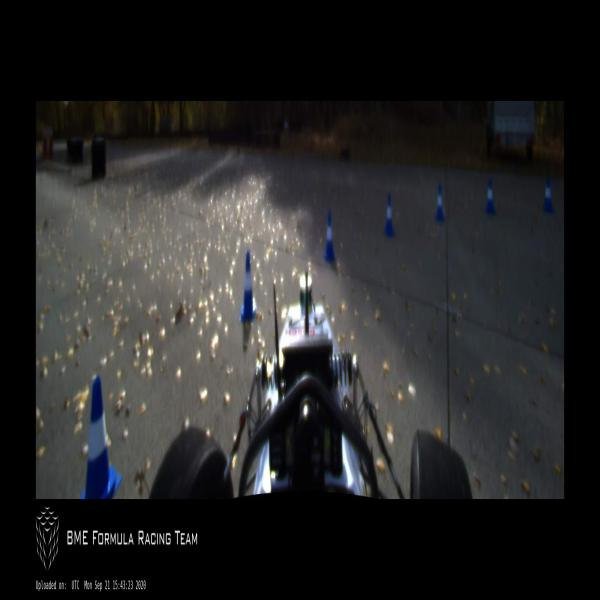blue_cone: (80, 372, 123, 498), (240, 251, 257, 320), (323, 212, 337, 264), (542, 172, 555, 216), (383, 193, 395, 237), (434, 183, 446, 222), (485, 177, 496, 214)
